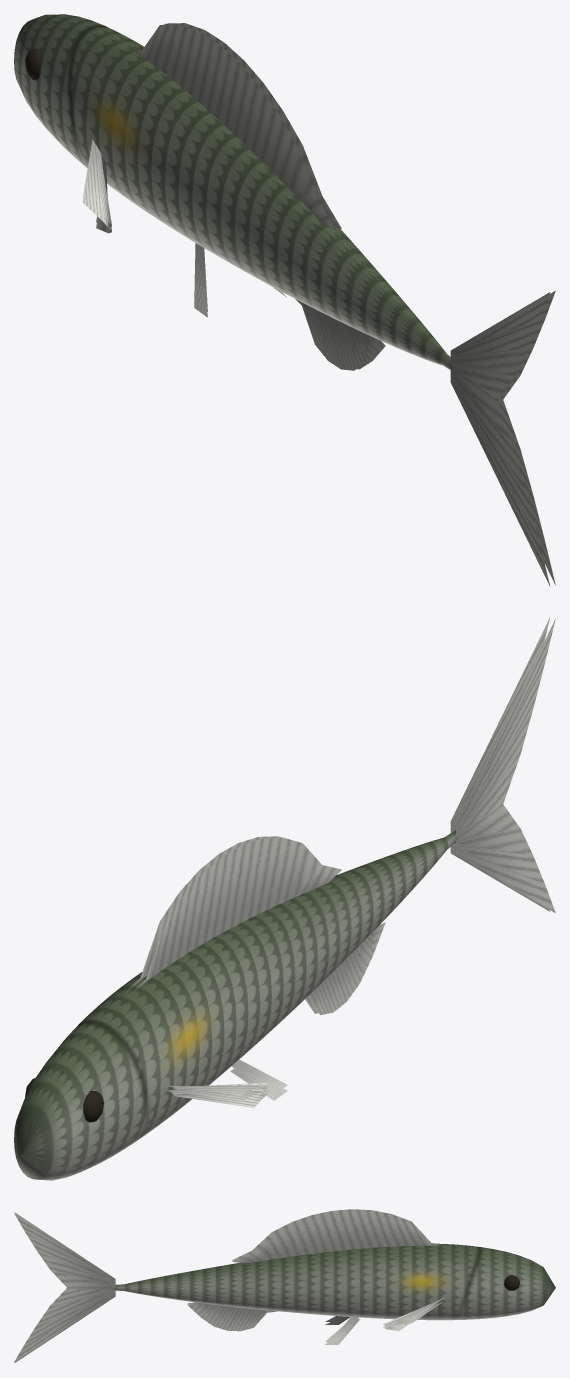
File: HO_Fish_Ayu.fbx
The picture shows the model from 3 angles, top to bottom: view 1: azimuth 30°, elevation 25°; view 2: azimuth 150°, elevation 25°; view 3: azimuth 270°, elevation 25°; orthographic projection. The views are drawn at different scales.
Parts seen in each view (by area): view 1: HO_Fish_Ayu__Fish_Ayu, HO_Fish_Ayu__Fish_Fin; view 2: HO_Fish_Ayu__Fish_Ayu, HO_Fish_Ayu__Fish_Fin; view 3: HO_Fish_Ayu__Fish_Ayu, HO_Fish_Ayu__Fish_Fin, HO_Fish_Ayu__Fish_Eye.
Part boxes in pixels (box(x1,y1,x2,y2)): HO_Fish_Ayu__Fish_Ayu: box(14, 14, 452, 369); HO_Fish_Ayu__Fish_Fin: box(83, 23, 555, 586); HO_Fish_Ayu__Fish_Ayu: box(14, 830, 457, 1180); HO_Fish_Ayu__Fish_Fin: box(127, 617, 555, 1107); HO_Fish_Ayu__Fish_Ayu: box(114, 1243, 555, 1320); HO_Fish_Ayu__Fish_Fin: box(14, 1209, 444, 1363); HO_Fish_Ayu__Fish_Eye: box(504, 1275, 519, 1290).
Size of the model in its own units: 0.2297 by 0.4186 by 1.34.
